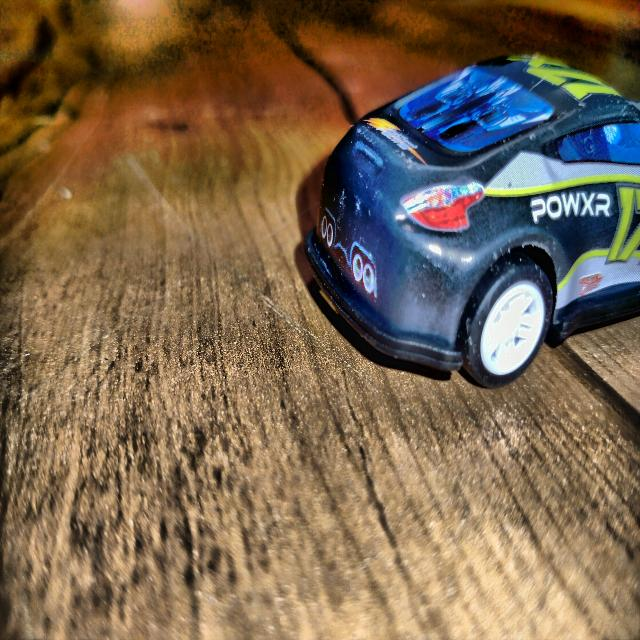Car: (306, 58, 640, 388)
